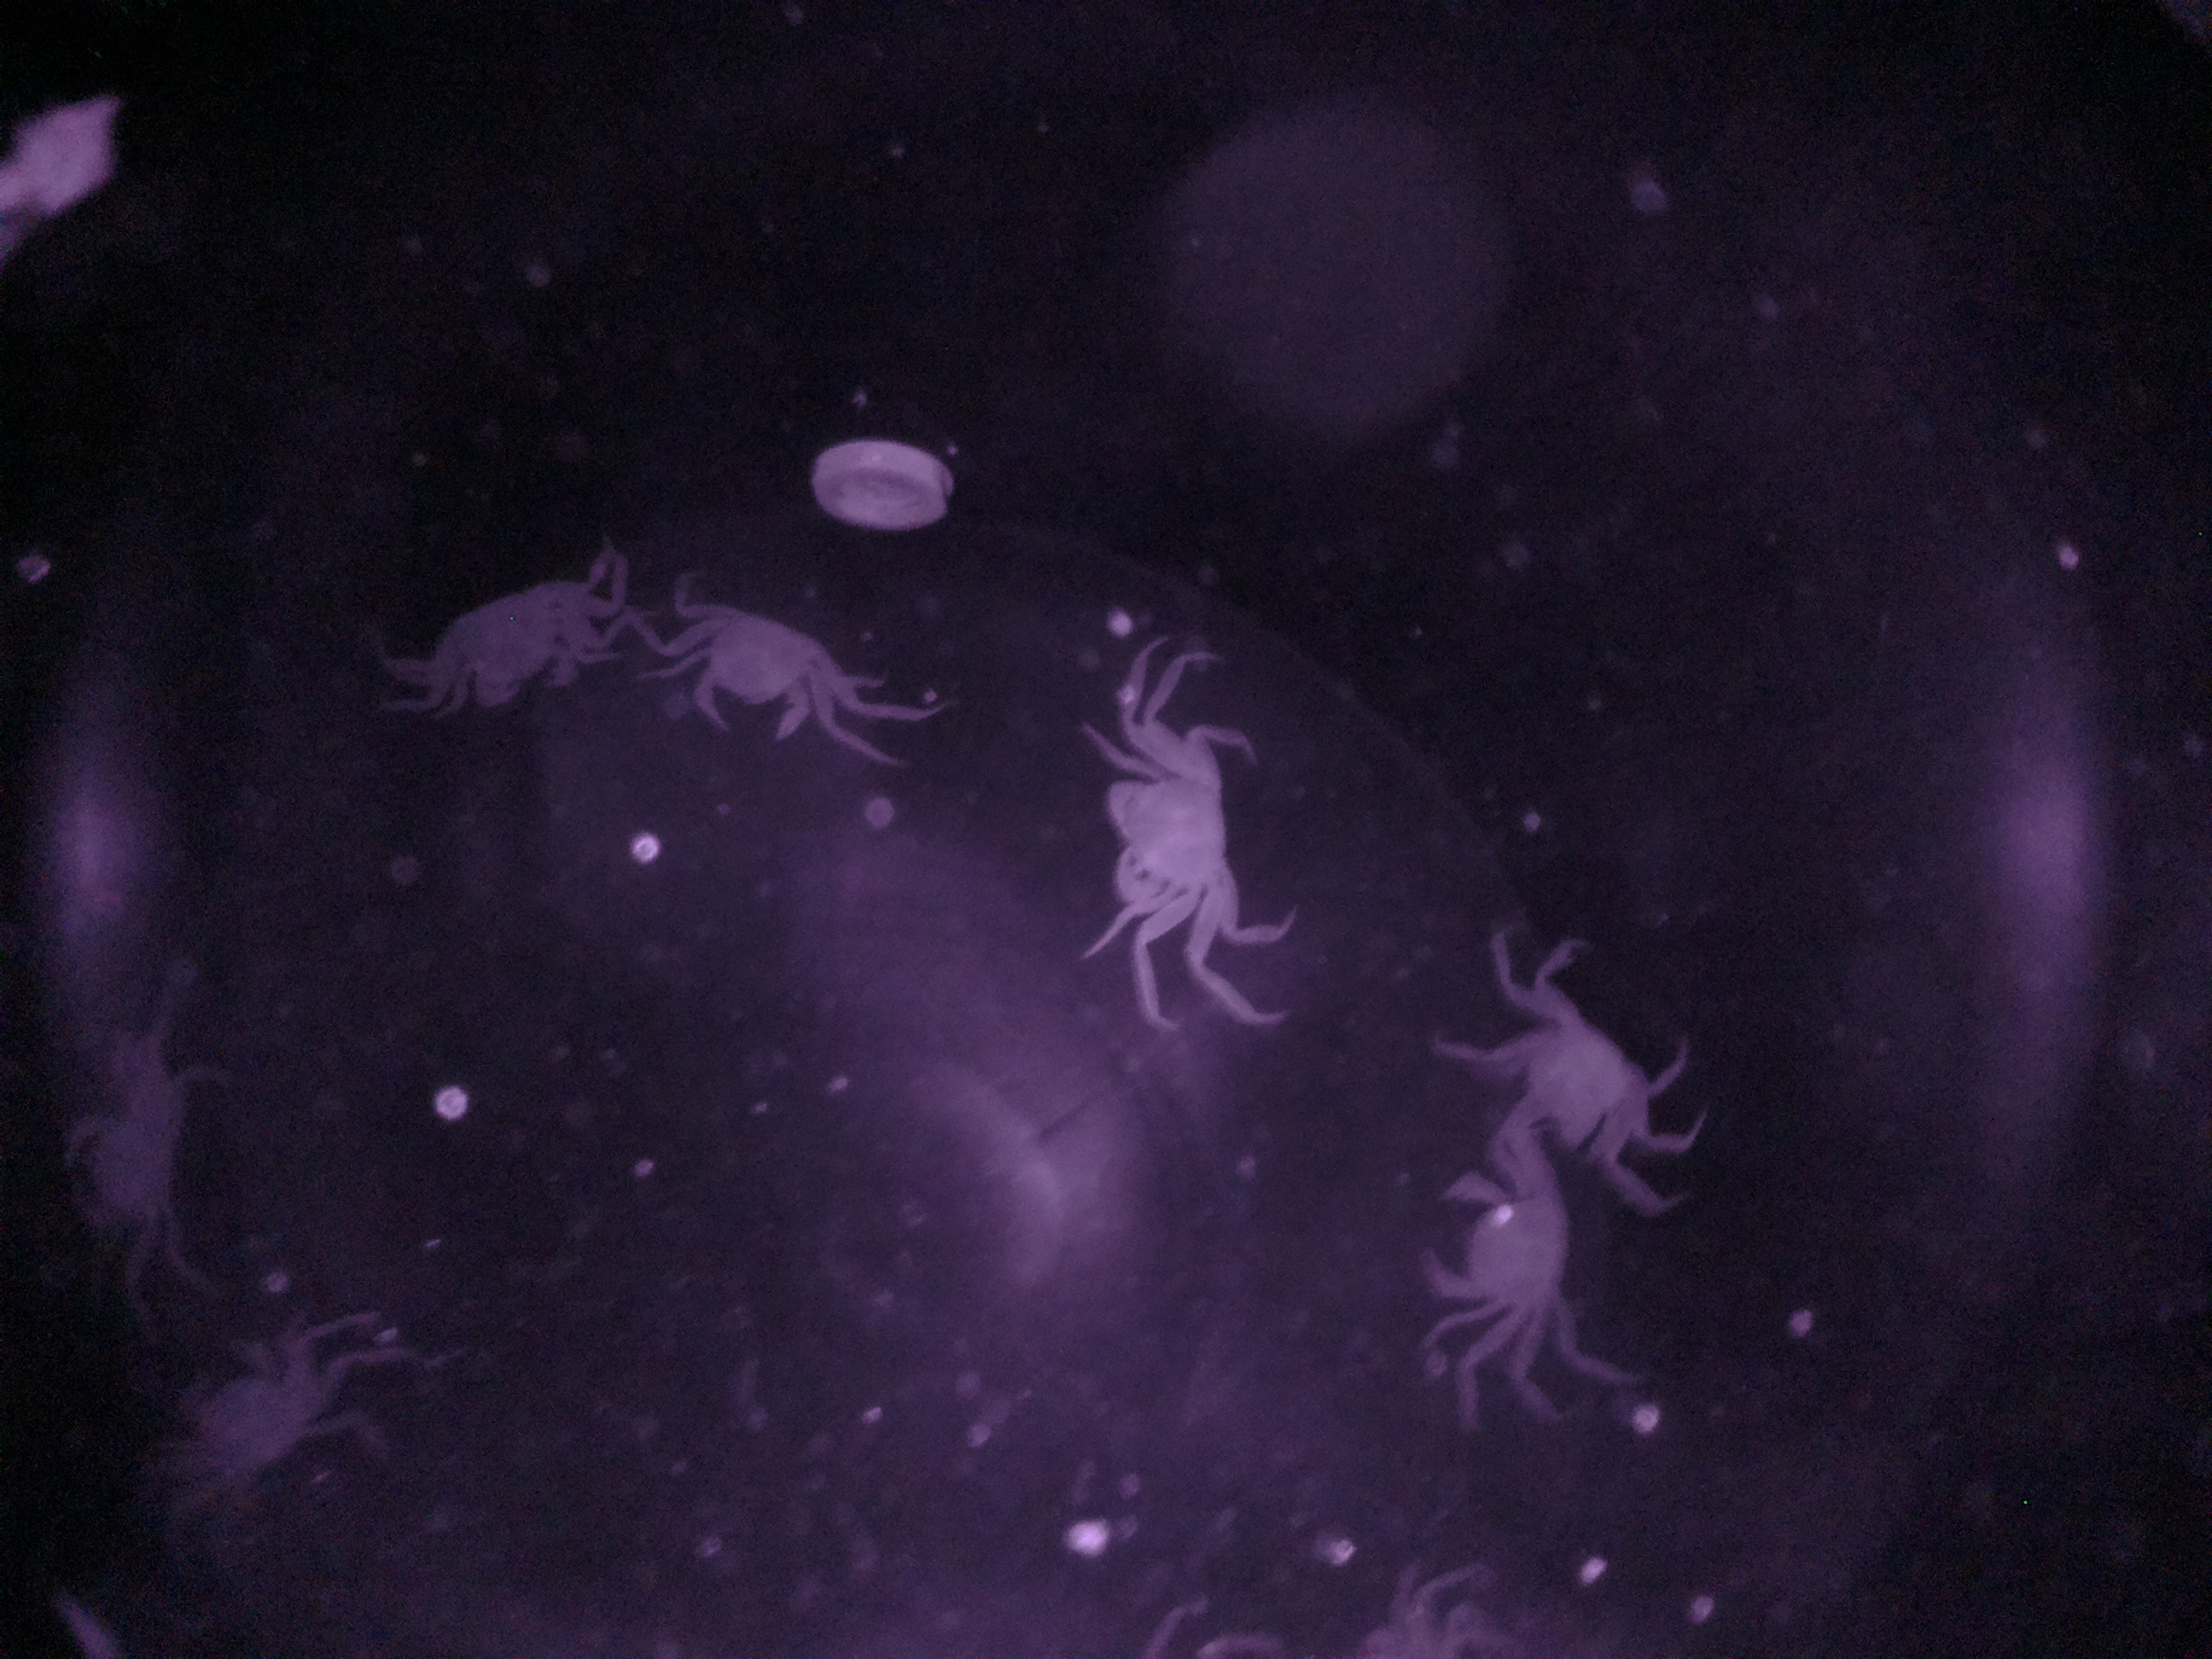Crab: (1407, 1098, 1608, 1398), (1092, 674, 1271, 995), (641, 577, 894, 765)
